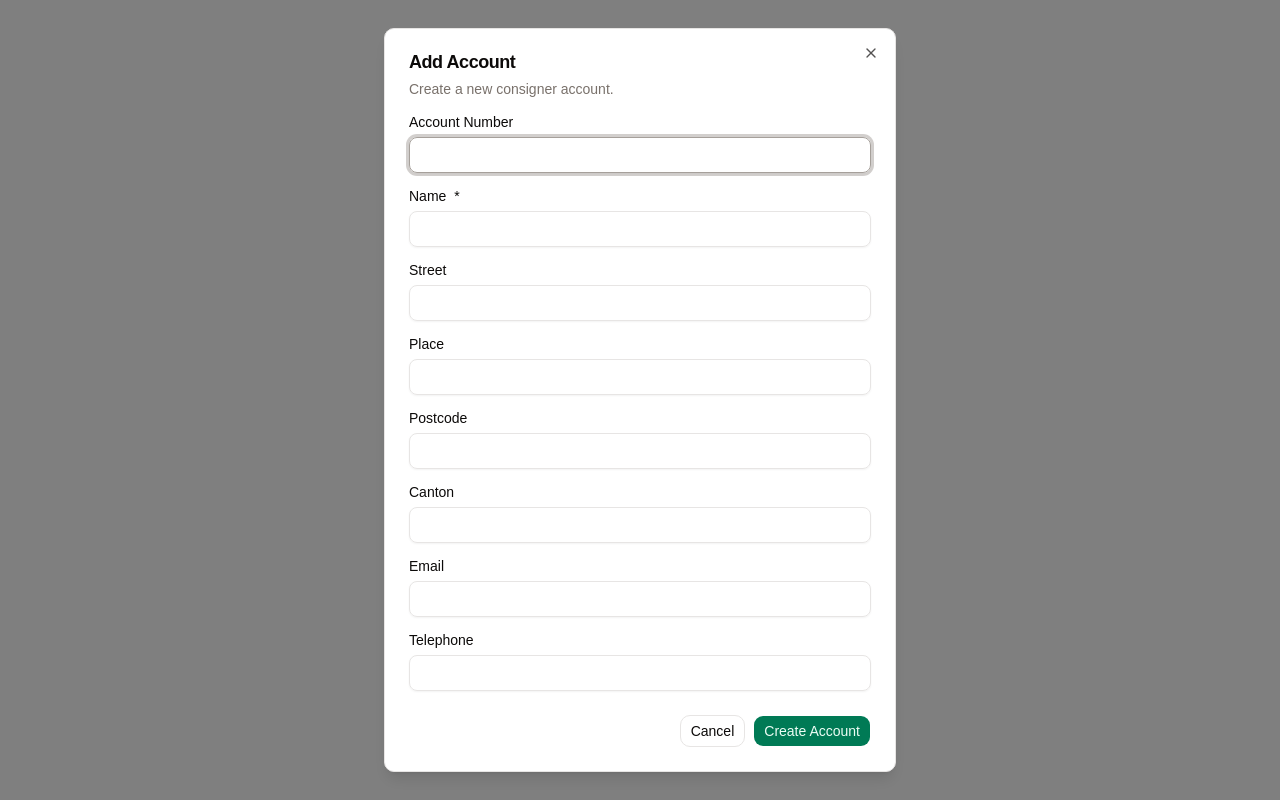
AccountForm › on-blur formatting › formats account number as 7-digit zero-padded on blur
Step 1. Type "42" into the field labelled "Account Number" → (640, 155), box top-left (409, 137), bottom-right (871, 173)
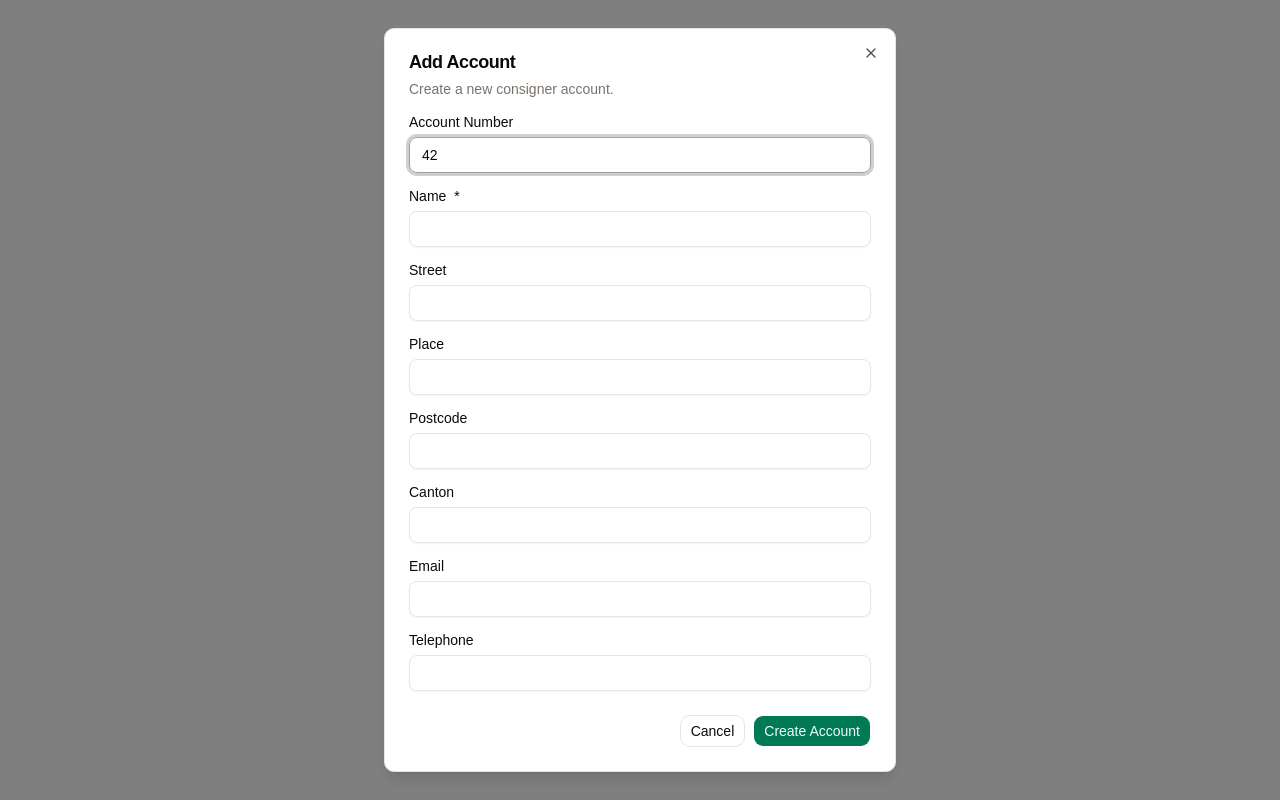
Step 2. Leave the field labelled "Account Number", box top-left (409, 137), bottom-right (871, 173)
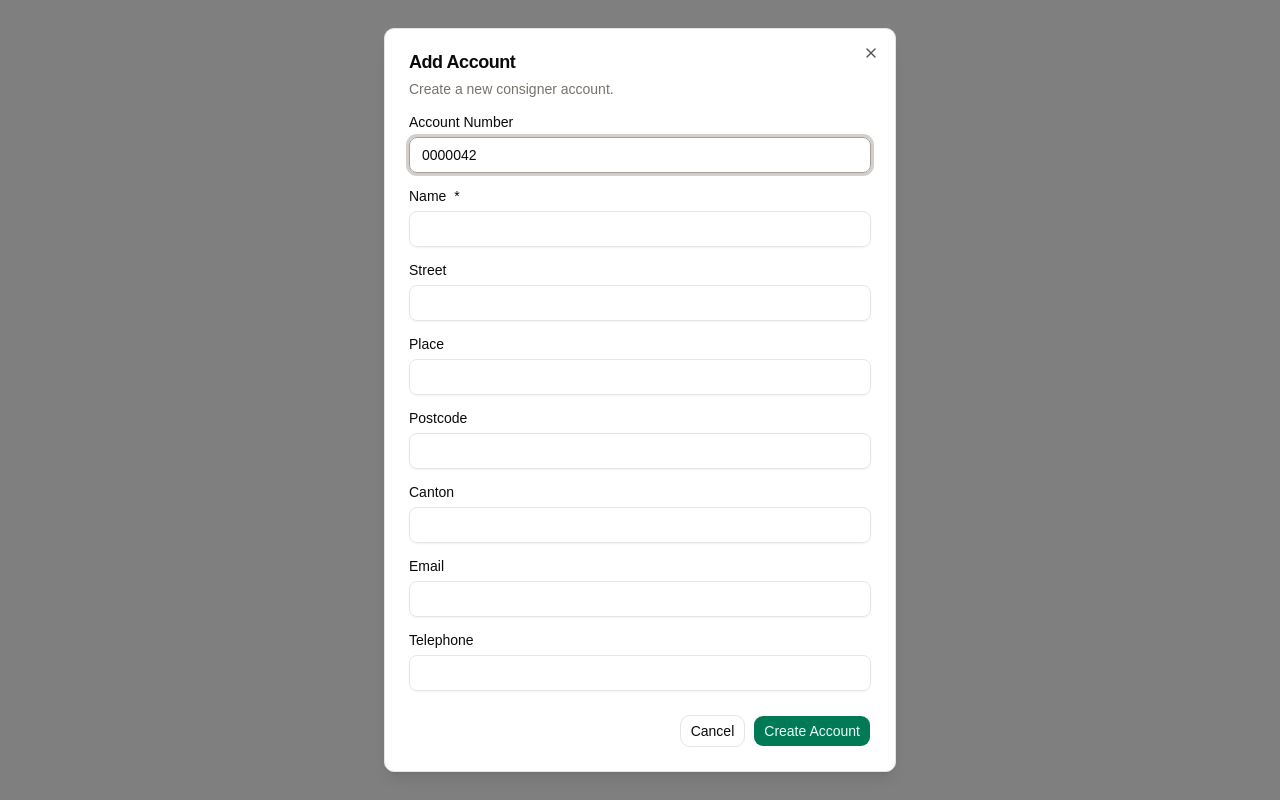
Expected: the field labelled "Account Number" holds "0000042", top-left (409, 137), bottom-right (871, 173)
